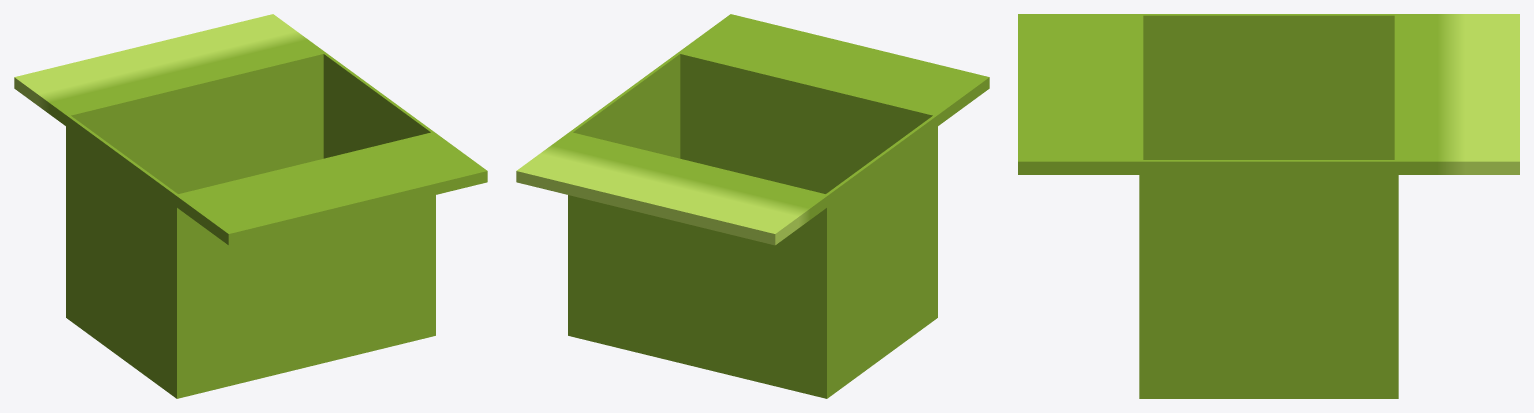
Rendered from Purple_Big_Open_Box.fbx.
The picture shows the model from 3 angles, left to right: view 1: azimuth 30°, elevation 25°; view 2: azimuth 150°, elevation 25°; view 3: azimuth 270°, elevation 25°; orthographic projection. The views are drawn at different scales.
Visible parts, largest first — view 1: Purple_Big_Open_Box; view 2: Purple_Big_Open_Box; view 3: Purple_Big_Open_Box.
Part boxes in pixels (box(x1,y1,x2,y2)): Purple_Big_Open_Box: box(14, 14, 487, 398); Purple_Big_Open_Box: box(516, 14, 989, 398); Purple_Big_Open_Box: box(1018, 14, 1519, 398).
Size of the model in its own units: 85.31 by 63.83 by 122.
